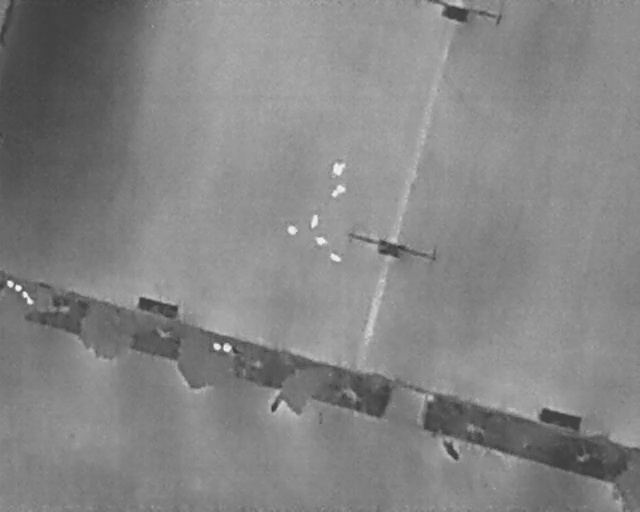Car: (328, 179, 349, 201), (330, 160, 346, 179), (309, 213, 321, 231), (327, 251, 341, 264), (314, 235, 328, 247), (286, 225, 299, 236)
